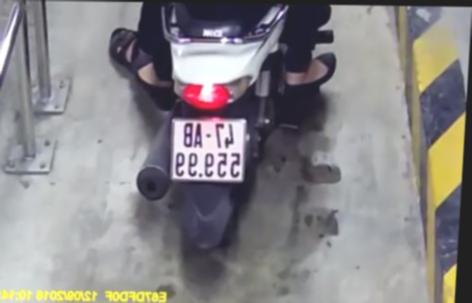License_Plate: (165, 114, 256, 188)
